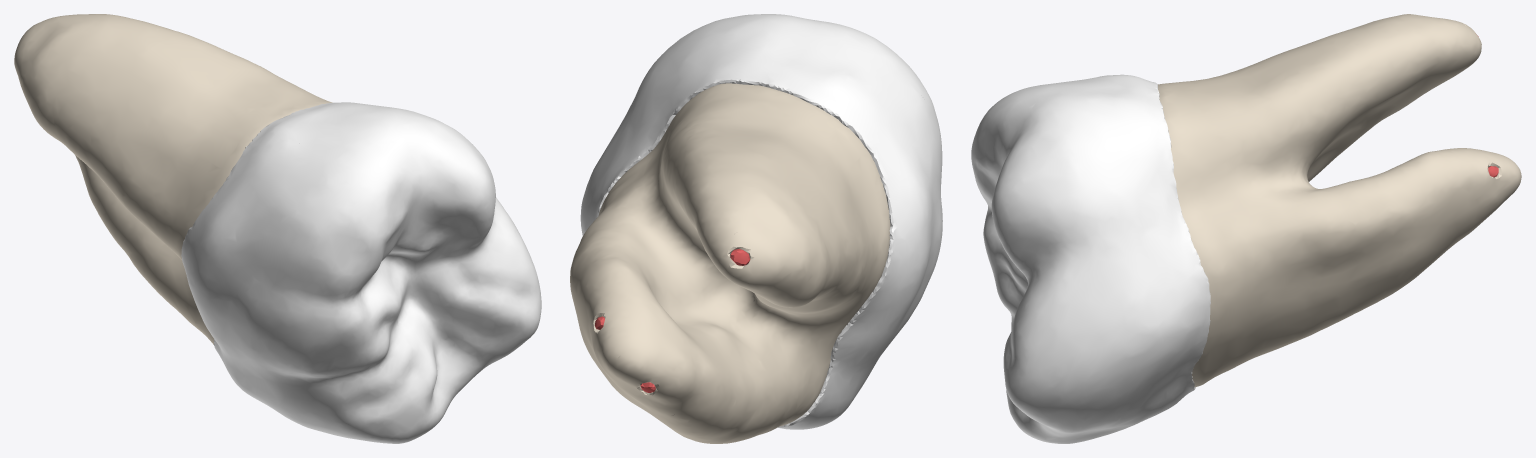
File: 恒牙下颌第一磨牙.fbx
The picture shows the model from 3 angles, left to right: view 1: azimuth 30°, elevation 25°; view 2: azimuth 150°, elevation 25°; view 3: azimuth 270°, elevation 25°; orthographic projection. The views are drawn at different scales.
Parts seen in each view (by area): view 1: texture_W, texture_B; view 2: texture_B, texture_W, texture_S; view 3: texture_B, texture_W.
Boxes of the visible parts, left/top/right/bottom form: texture_W: left=181, top=102, right=541, bottom=443; texture_B: left=14, top=14, right=332, bottom=344; texture_B: left=570, top=83, right=890, bottom=443; texture_W: left=580, top=14, right=942, bottom=429; texture_S: left=594, top=249, right=750, bottom=392; texture_B: left=1158, top=14, right=1521, bottom=387; texture_W: left=971, top=74, right=1210, bottom=443.
Size of the model in its own units: 18.83 by 17.79 by 25.4.
3 materials, 3 textured.
